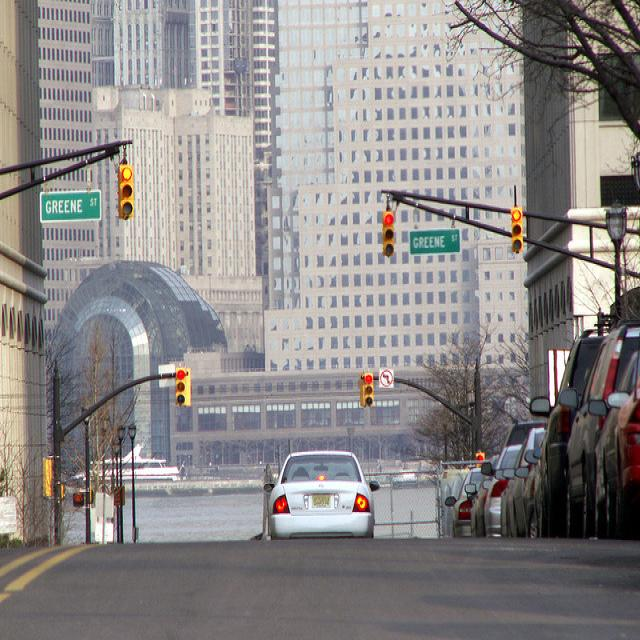Vehicle: (557, 318, 640, 538), (531, 336, 602, 538), (264, 450, 379, 543), (587, 348, 640, 532), (482, 444, 524, 539), (512, 439, 548, 539), (444, 467, 484, 538), (504, 444, 525, 536), (465, 477, 495, 538)
